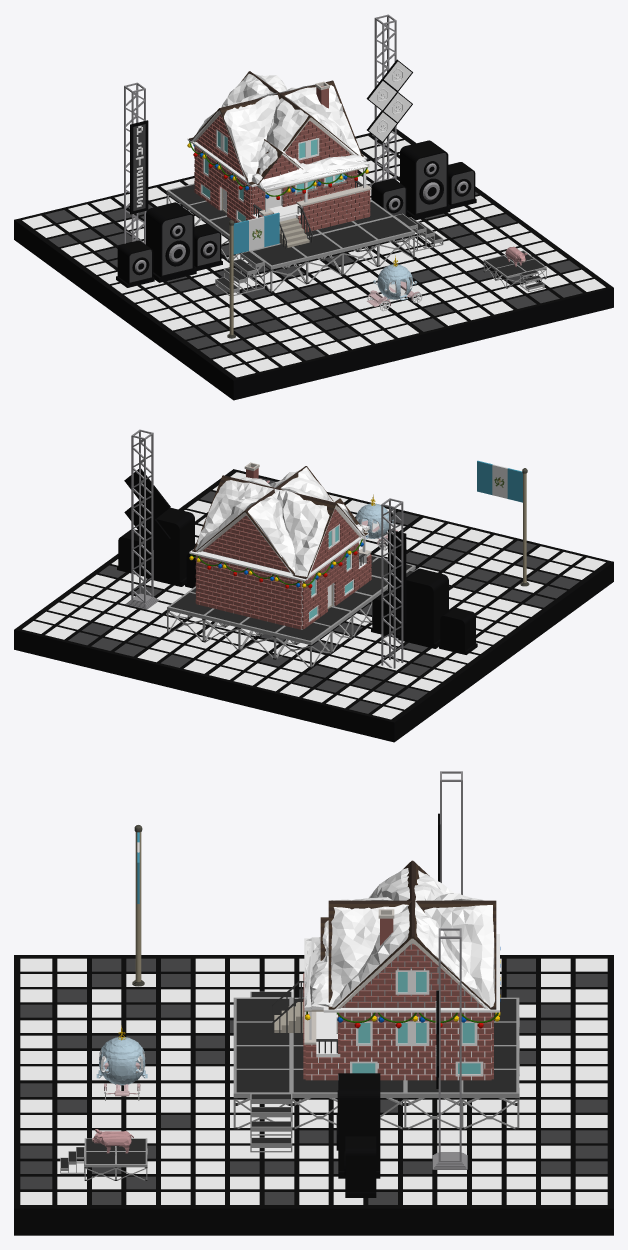
3 views of the same model, one above another, from view 1: azimuth 30°, elevation 25°; view 2: azimuth 150°, elevation 25°; view 3: azimuth 270°, elevation 25° (orthographic). The views are drawn at different scales.
Parts seen in each view (by area): view 1: Cube.008, Cube.1419, OBJRANDOM_GUATEMALAN_FLAG, VEHICLES_FANTASY_CARRIAGE; view 2: Cube.008, Cube.1419, OBJRANDOM_GUATEMALAN_FLAG, VEHICLES_FANTASY_CARRIAGE; view 3: Cube.008, Cube.1419, VEHICLES_FANTASY_CARRIAGE, OBJRANDOM_GUATEMALAN_FLAG, ANIMAL_CERDO.
Part boxes in pixels (bbox=[...]): Cube.008: bbox=[14, 14, 613, 400]; Cube.1419: bbox=[187, 71, 371, 248]; OBJRANDOM_GUATEMALAN_FLAG: bbox=[227, 212, 279, 338]; VEHICLES_FANTASY_CARRIAGE: bbox=[367, 255, 422, 311]; Cube.008: bbox=[14, 429, 613, 742]; Cube.1419: bbox=[189, 462, 372, 629]; OBJRANDOM_GUATEMALAN_FLAG: bbox=[477, 460, 529, 586]; VEHICLES_FANTASY_CARRIAGE: bbox=[355, 494, 397, 550]; Cube.008: bbox=[14, 771, 613, 1235]; Cube.1419: bbox=[272, 860, 500, 1080]; VEHICLES_FANTASY_CARRIAGE: bbox=[96, 1025, 147, 1100]; OBJRANDOM_GUATEMALAN_FLAG: bbox=[132, 825, 144, 986]; ANIMAL_CERDO: bbox=[92, 1129, 133, 1153].
Size of the model in its own units: 4000 by 1995 by 4000.
45 materials, 2 textured.
